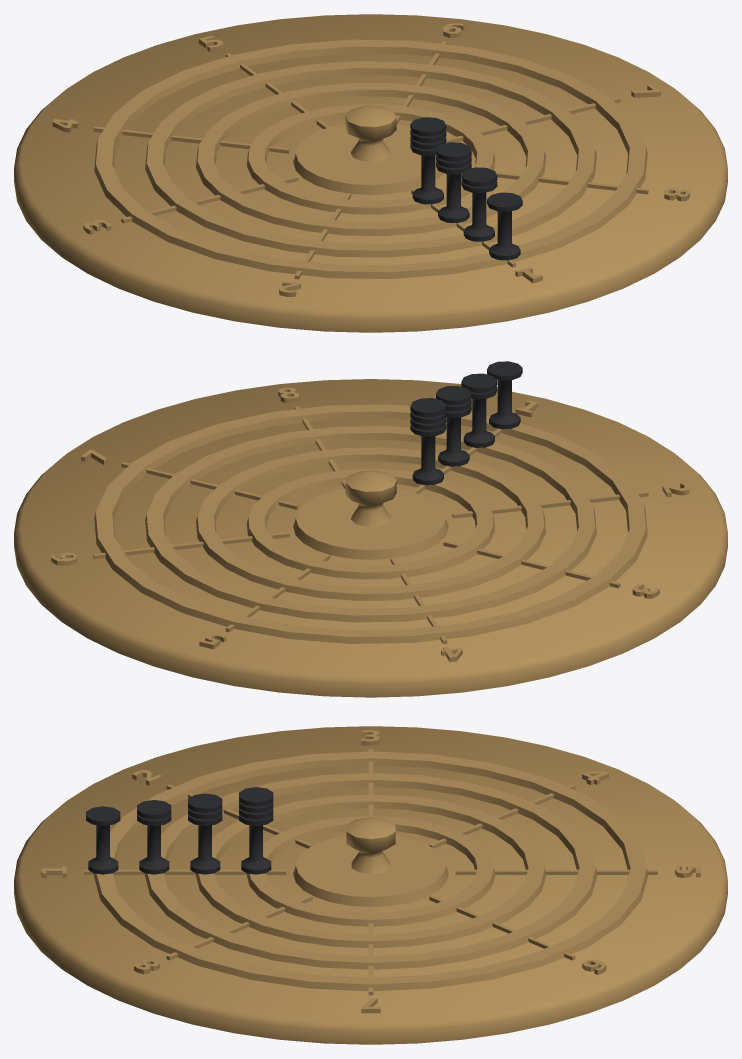
Rendered from orrery.glb.
The picture shows the model from 3 angles, top to bottom: view 1: azimuth 30°, elevation 25°; view 2: azimuth 150°, elevation 25°; view 3: azimuth 270°, elevation 25°; orthographic projection.
Visible parts, largest first — view 1: orrery, orrery_tower_4, orrery_tower_3, orrery_tower_2, orrery_tower_1; view 2: orrery, orrery_tower_4, orrery_tower_3, orrery_tower_2, orrery_tower_1; view 3: orrery, orrery_tower_4, orrery_tower_3, orrery_tower_2, orrery_tower_1.
Part boxes in pixels (x1=…): orrery: x1=14, y1=14, x2=727, y2=332; orrery_tower_4: x1=410, y1=117, x2=446, y2=204; orrery_tower_3: x1=436, y1=142, x2=471, y2=222; orrery_tower_2: x1=461, y1=167, x2=497, y2=241; orrery_tower_1: x1=487, y1=192, x2=522, y2=260; orrery: x1=14, y1=379, x2=727, y2=697; orrery_tower_4: x1=410, y1=398, x2=446, y2=485; orrery_tower_3: x1=436, y1=385, x2=471, y2=466; orrery_tower_2: x1=461, y1=373, x2=497, y2=447; orrery_tower_1: x1=487, y1=361, x2=522, y2=429; orrery: x1=14, y1=726, x2=727, y2=1044; orrery_tower_4: x1=239, y1=787, x2=273, y2=874; orrery_tower_3: x1=188, y1=793, x2=222, y2=874; orrery_tower_2: x1=137, y1=800, x2=171, y2=874; orrery_tower_1: x1=86, y1=806, x2=120, y2=874.
Size of the model in its own units: 0.2613 by 0.0401 by 0.2613.
